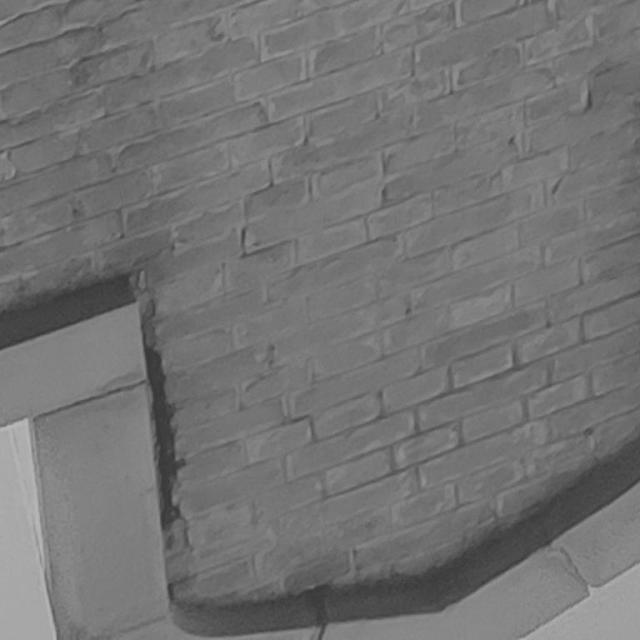crack: (142, 329, 188, 531)
